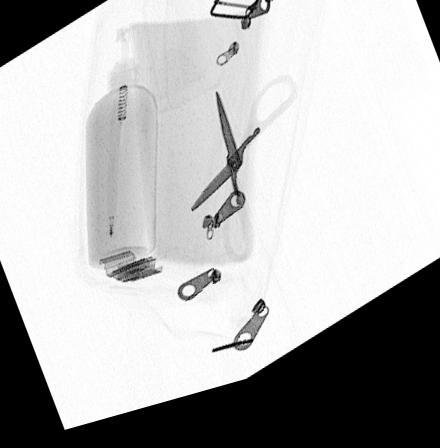Scissors: (189, 89, 299, 278)
